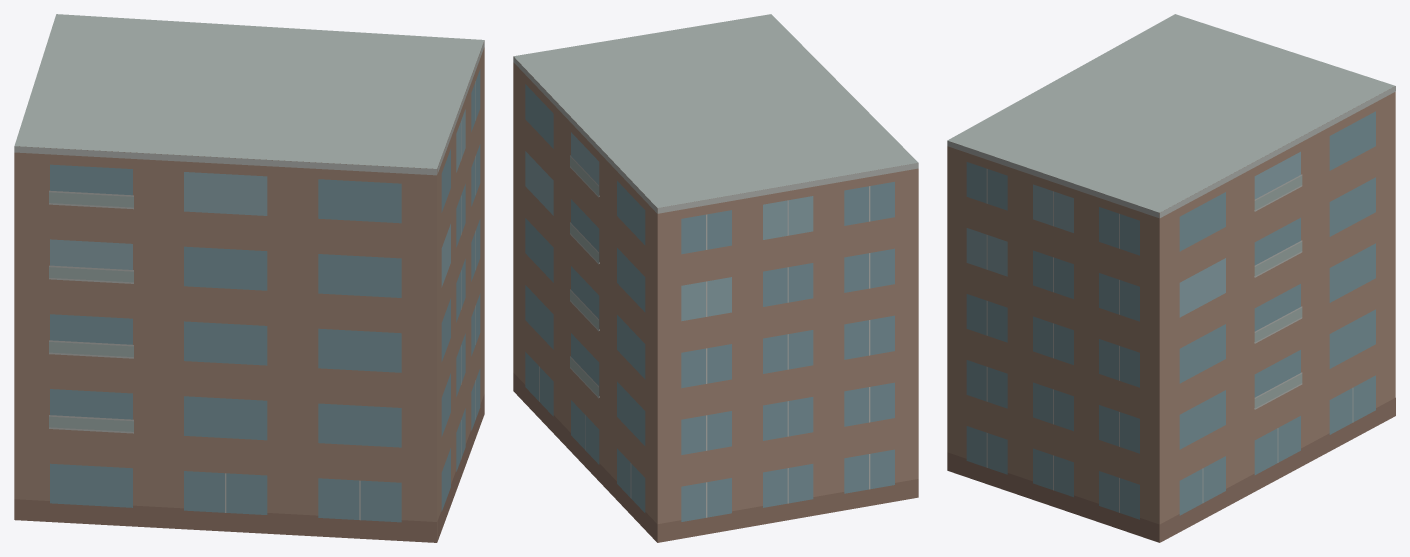
Rendered from survey-upis-32885838.glb.
3 renders of one model, left to right at view 1: azimuth 30°, elevation 25°; view 2: azimuth 150°, elevation 25°; view 3: azimuth 270°, elevation 25°, orthographic. The views are drawn at different scales.
Visible parts, largest first — view 1: survey-upis-32885838.tmp; view 2: survey-upis-32885838.tmp; view 3: survey-upis-32885838.tmp.
Boxes of the visible parts, x1,y1,x2,y2 form: survey-upis-32885838.tmp: (14, 14, 484, 542); survey-upis-32885838.tmp: (513, 14, 918, 542); survey-upis-32885838.tmp: (947, 14, 1395, 542).
Size of the model in its own units: 18.48 by 14.3 by 17.62.
